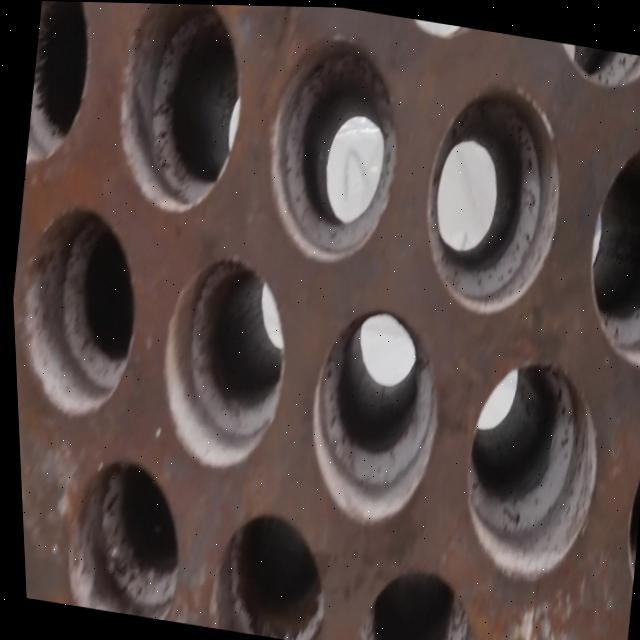Hole: (406, 70, 577, 322), (248, 19, 416, 270), (446, 346, 612, 586), (290, 298, 452, 532), (145, 247, 299, 476), (101, 2, 260, 220), (7, 197, 150, 423), (53, 451, 191, 622), (198, 502, 333, 640), (570, 123, 640, 368), (18, 0, 105, 178), (347, 557, 476, 640)
